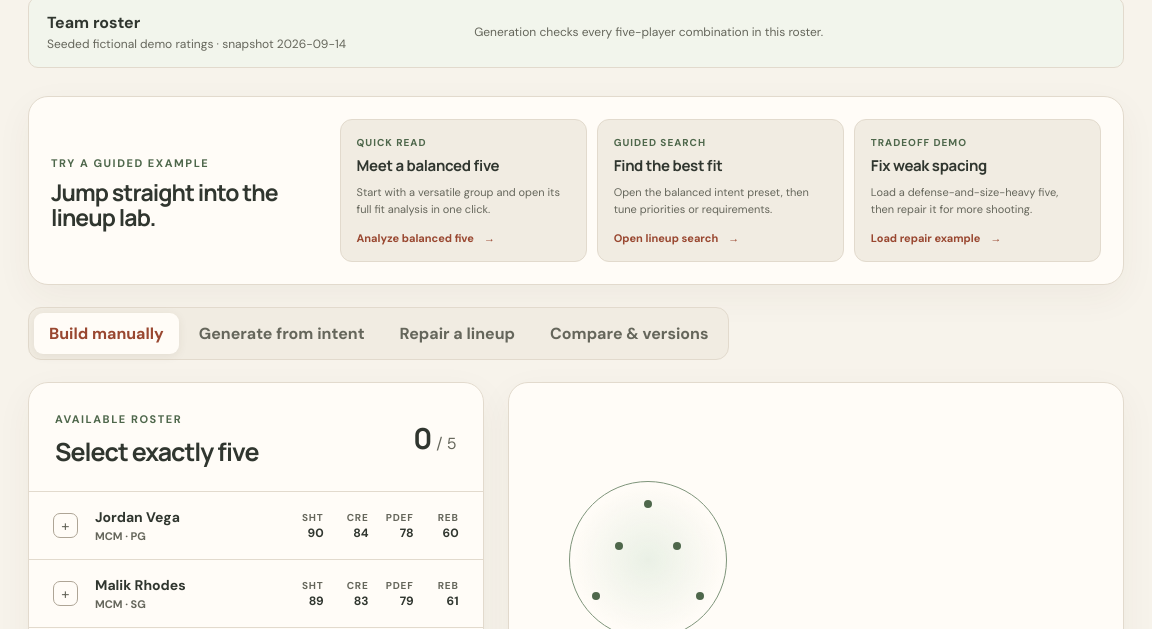
Test: structured lineup generation › uses the latest generated winner as a repair starting point
(page scrolled)
Expected: the button with aria-label "Select Jordan Vega" is shown, [29,492,483,560]
Click the tab "Generate from intent": coordinates (282, 334) [184,314,380,354]
(page scrolled)
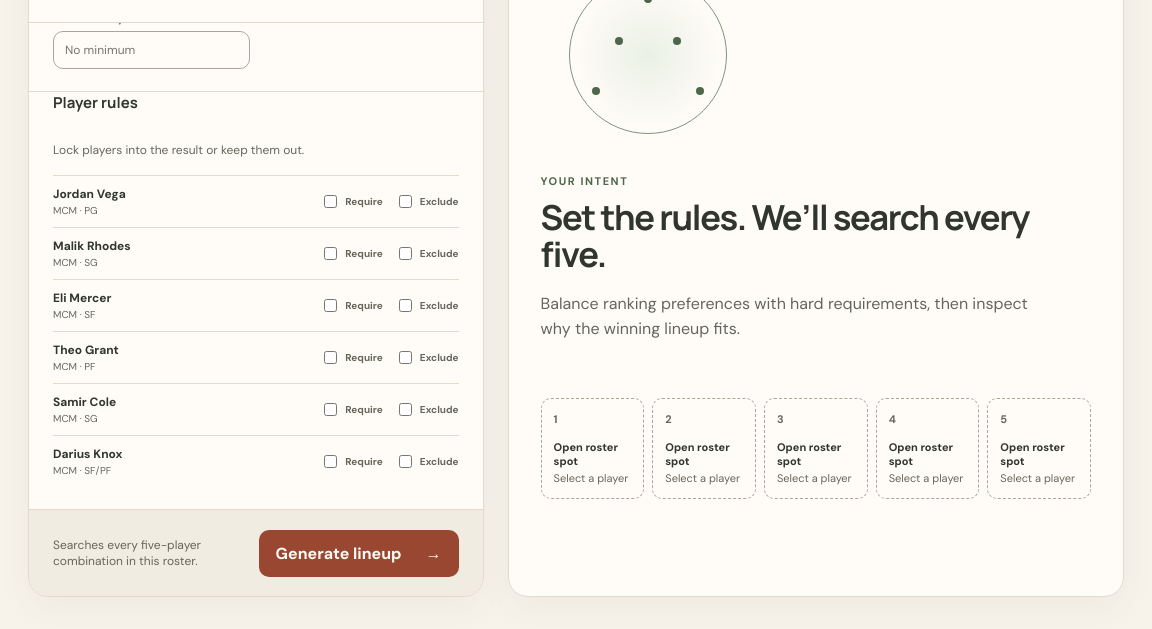
Click the button "Generate lineup →": coordinates (359, 553) [259,530,459,577]
(page scrolled)
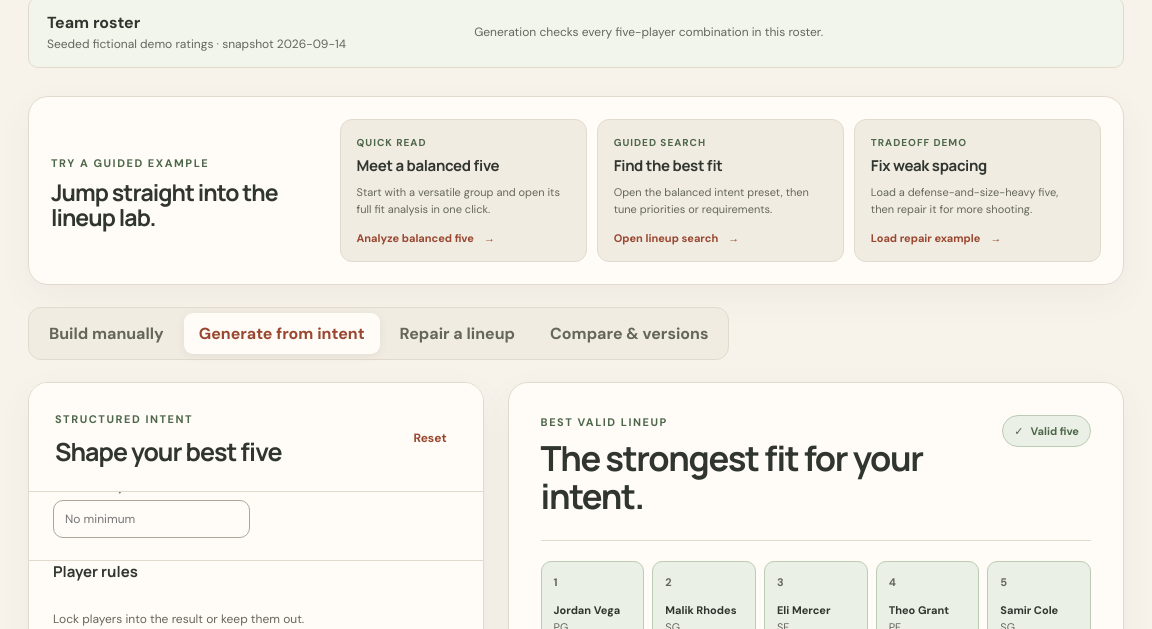
Result: the heading "The strongest fit for your intent." is shown at [541,440,978,514]
Click the tab "Repair a lineup": coordinates (457, 334) [385,314,530,354]
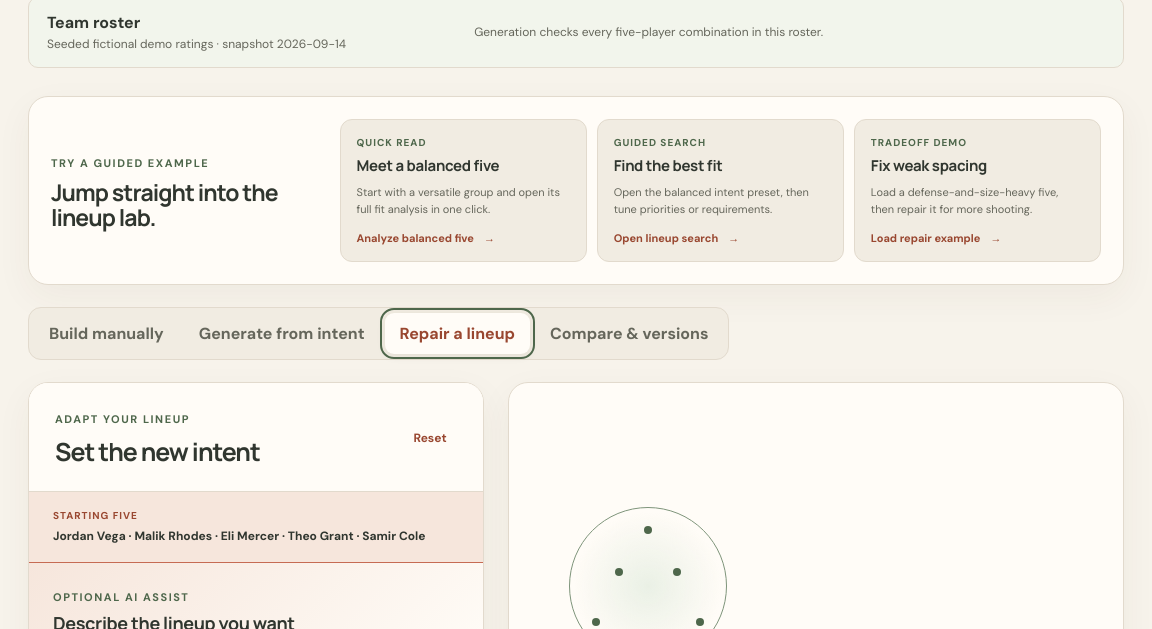
Result: the heading "Set the new intent" is shown at [55,434,260,470]
Result: the text "Jordan Vega · Malik Rhodes · Eli Mercer" is shown at [53,528,426,544]
